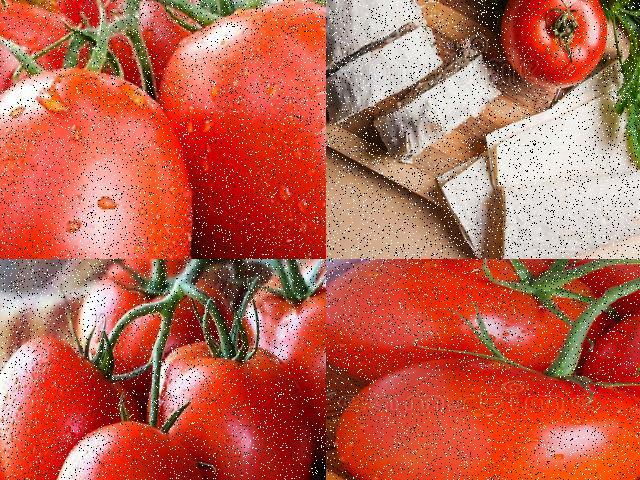tomato: (161, 0, 325, 258), (326, 351, 639, 479), (0, 53, 187, 258), (326, 259, 605, 378), (59, 259, 237, 413), (156, 339, 315, 479), (0, 328, 138, 479), (0, 0, 63, 254), (243, 268, 325, 458), (37, 0, 189, 78), (497, 0, 614, 96), (44, 421, 208, 479), (601, 300, 639, 453)
